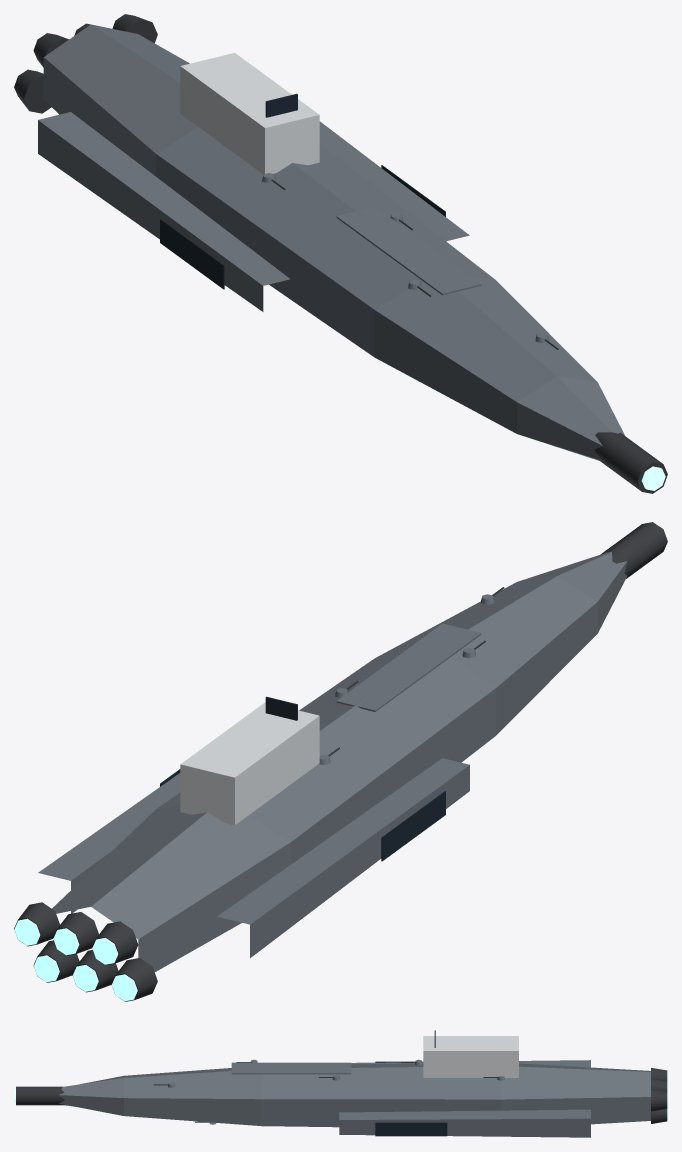
File: space_ship_battleship_mk3.glb
The picture shows the model from 3 angles, top to bottom: view 1: azimuth 30°, elevation 25°; view 2: azimuth 150°, elevation 25°; view 3: azimuth 270°, elevation 25°; orthographic projection. The views are drawn at different scales.
Visible parts, largest first — view 1: body, main_gun, hangar_r, engine_0, engine_5; view 2: body, main_gun, hangar_r, engine_1, engine_0, engine_5, engine_3, engine_4, engine_2; view 3: body, hangar_l, main_gun, engine_5, engine_4, engine_3, engine_1.
Part boxes in pixels (x1=…): body: x1=38, y1=24, x2=624, y2=460; main_gun: x1=594, y1=432, x2=667, y2=493; hangar_r: x1=160, y1=219, x2=224, y2=289; engine_0: x1=14, y1=69, x2=51, y2=113; engine_5: x1=112, y1=14, x2=157, y2=43; body: x1=38, y1=552, x2=627, y2=971; main_gun: x1=600, y1=522, x2=667, y2=578; hangar_r: x1=381, y1=791, x2=445, y2=861; engine_1: x1=92, y1=921, x2=138, y2=965; engine_0: x1=111, y1=958, x2=157, y2=1001; engine_5: x1=14, y1=902, x2=59, y2=946; engine_3: x1=53, y1=912, x2=98, y2=955; engine_4: x1=33, y1=940, x2=79, y2=982; engine_2: x1=72, y1=950, x2=118, y2=992; body: x1=59, y1=1030, x2=650, y2=1137; hangar_l: x1=375, y1=1122, x2=447, y2=1136; main_gun: x1=14, y1=1086, x2=66, y2=1105; engine_5: x1=651, y1=1089, x2=667, y2=1111; engine_4: x1=651, y1=1108, x2=667, y2=1123; engine_3: x1=651, y1=1078, x2=667, y2=1092; engine_1: x1=651, y1=1068, x2=667, y2=1081.
Size of what is drawn, in the model's own units: 28.5 by 19.82 by 129.
